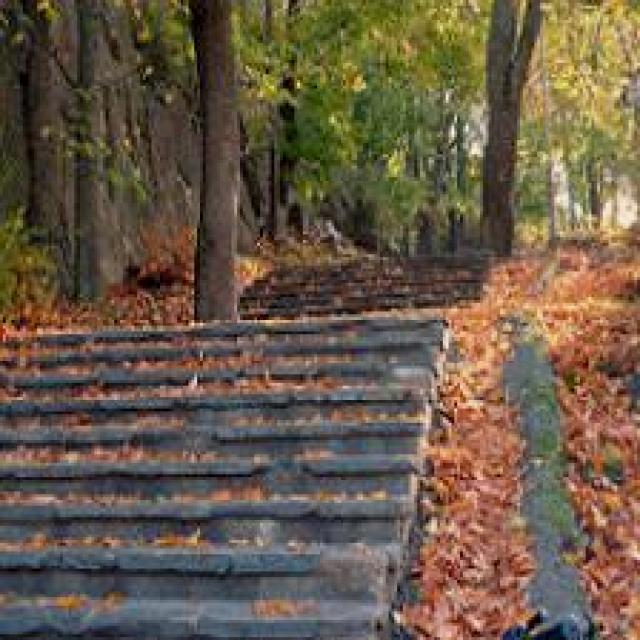upstair: (9, 321, 424, 627)
